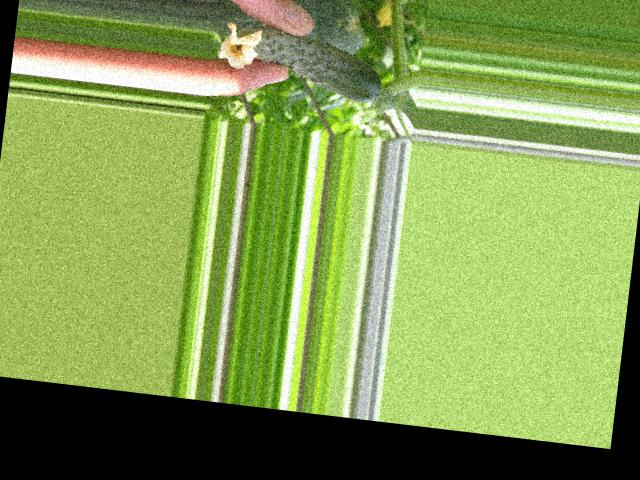cucumber: (216, 21, 387, 103)
